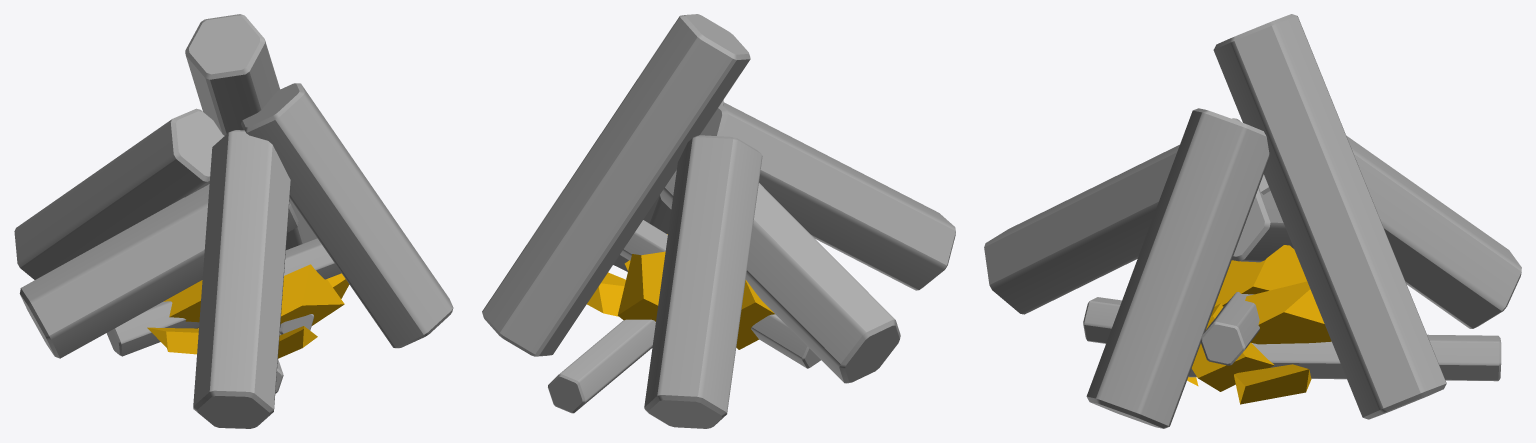
Rendered from campfire_logs_v1.fbx.
3 renders of one model, left to right at view 1: azimuth 30°, elevation 25°; view 2: azimuth 150°, elevation 25°; view 3: azimuth 270°, elevation 25°, orthographic. The views are drawn at different scales.
Parts seen in each view (by area): view 1: fire_log_3, fire_log_4, fire_log_2, fire_log_1, fire_log_5, fire_log_7, fire_3, fire_7, fire_4, fire_2; view 2: fire_log_5, fire_log_1, fire_log_3, fire_log_2, fire_log_6, fire_log_7, fire_6, fire_4, fire_5, fire_log_4; view 3: fire_log_5, fire_log_4, fire_log_3, fire_log_1, fire_log_6, fire_6, fire_4, fire_log_7, fire_log_2, fire_5, fire_3, fire_log_8.
Part boxes in pixels (left/top/right/bottom): fire_log_3: left=193, top=130, right=290, bottom=428; fire_log_4: left=241, top=83, right=453, bottom=348; fire_log_2: left=19, top=184, right=298, bottom=358; fire_log_1: left=14, top=108, right=224, bottom=279; fire_log_5: left=185, top=14, right=317, bottom=249; fire_log_7: left=107, top=238, right=341, bottom=356; fire_3: left=280, top=264, right=344, bottom=325; fire_7: left=147, top=327, right=198, bottom=354; fire_4: left=163, top=280, right=202, bottom=328; fire_2: left=278, top=326, right=317, bottom=358; fire_log_5: left=482, top=14, right=750, bottom=356; fire_log_1: left=644, top=135, right=762, bottom=428; fire_log_3: left=700, top=102, right=955, bottom=290; fire_log_2: left=660, top=170, right=900, bottom=383; fire_log_6: left=548, top=319, right=655, bottom=413; fire_log_7: left=620, top=220, right=820, bottom=368; fire_6: left=617, top=251, right=665, bottom=321; fire_4: left=736, top=280, right=774, bottom=349; fire_5: left=587, top=272, right=625, bottom=316; fire_log_4: left=613, top=100, right=723, bottom=271; fire_log_5: left=1213, top=14, right=1446, bottom=419; fire_log_4: left=1086, top=108, right=1269, bottom=428; fire_log_3: left=984, top=118, right=1270, bottom=314; fire_log_1: left=1346, top=135, right=1521, bottom=328; fire_log_6: left=1188, top=334, right=1501, bottom=381; fire_6: left=1245, top=281, right=1331, bottom=344; fire_4: left=1214, top=245, right=1306, bottom=306; fire_log_7: left=1200, top=292, right=1259, bottom=365; fire_log_2: left=1232, top=187, right=1293, bottom=262; fire_5: left=1234, top=364, right=1311, bottom=404; fire_3: left=1191, top=303, right=1274, bottom=391; fire_log_8: left=1083, top=297, right=1121, bottom=343.
Size of the model in its own units: 1.47 by 1.24 by 1.72.
